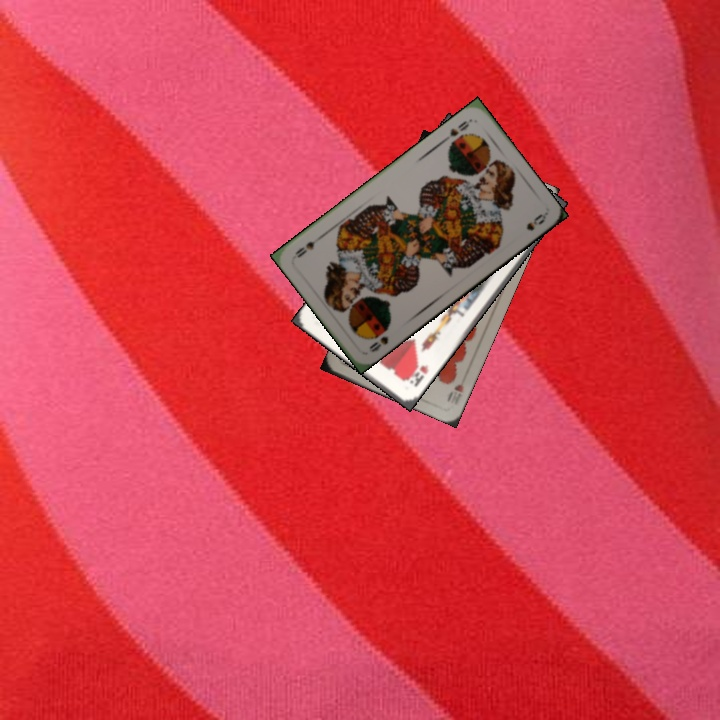H10: (443, 370, 470, 407)
HK: (403, 360, 431, 390)
SO: (439, 117, 471, 144), (365, 332, 391, 355)
